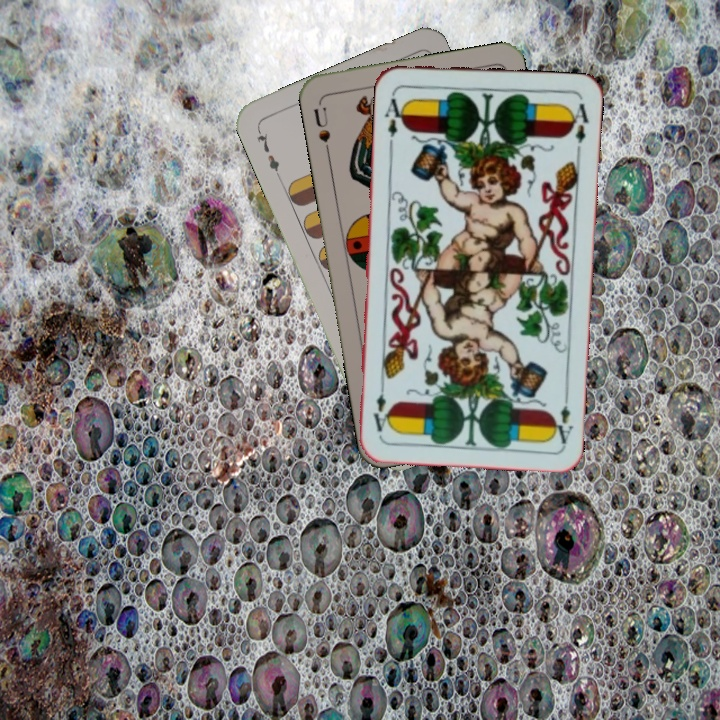E7: (253, 124, 283, 181)
EA: (380, 88, 408, 147), (549, 388, 576, 446)
SU: (309, 98, 333, 157)
